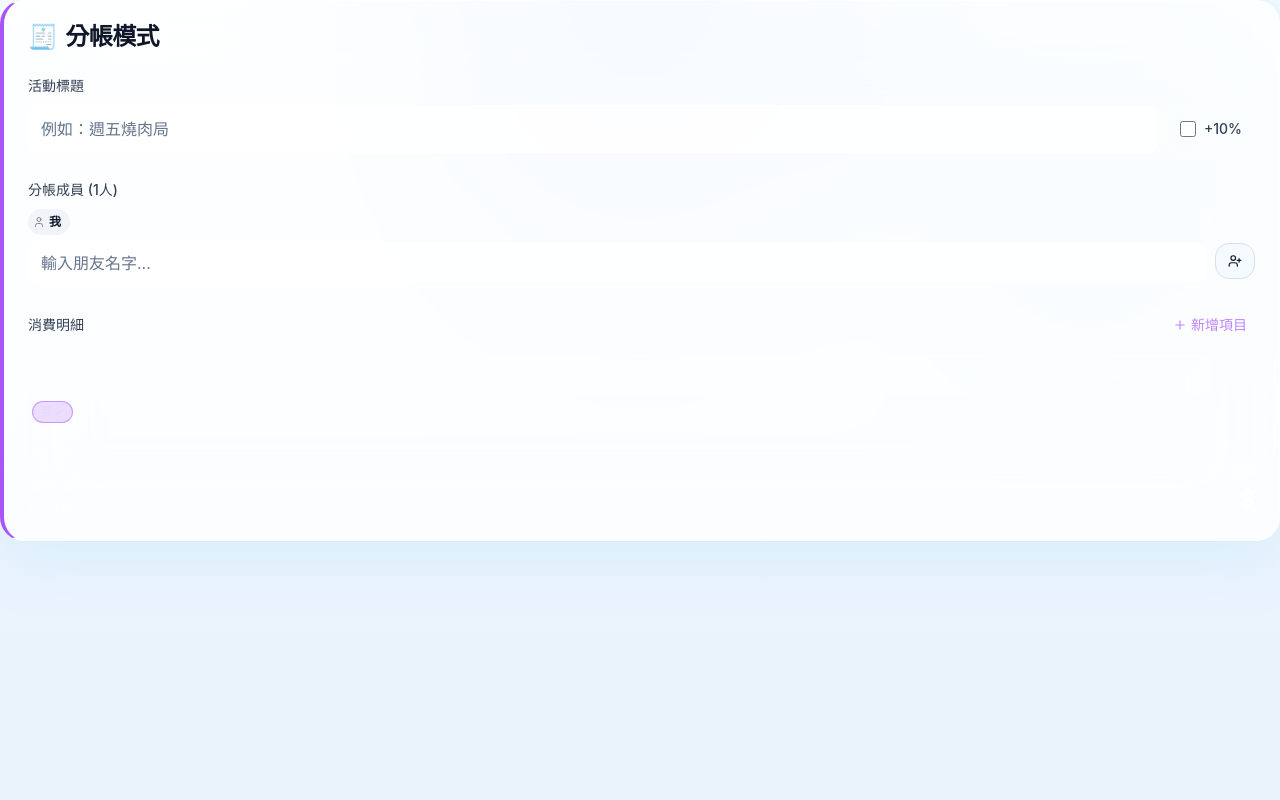
Test: BillForm Component › 新增成員 → 成員列表更新
The width and height of the screenshot is (1280, 800).
Step 1. Type "小明" into the field with placeholder "輸入朋友名字..." → (618, 263), box [28, 243, 1207, 283]
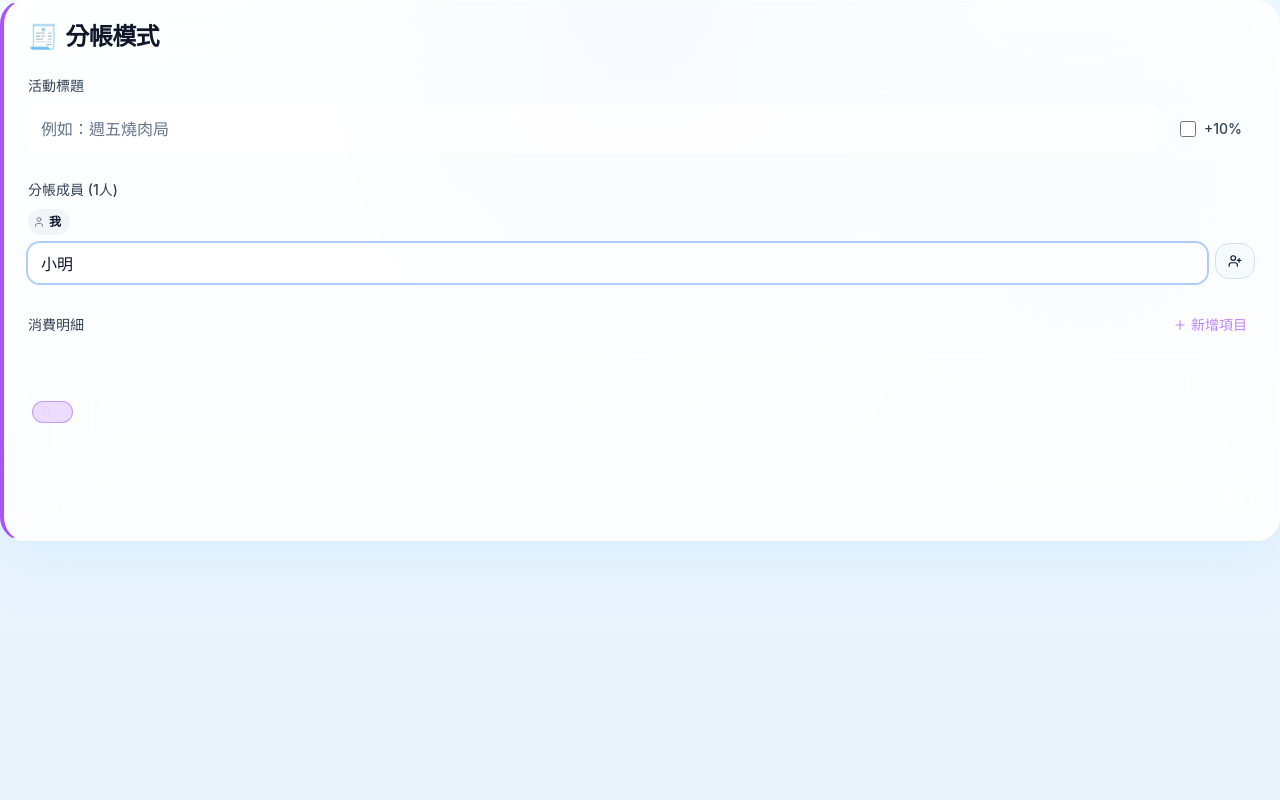
Step 2. Press Enter
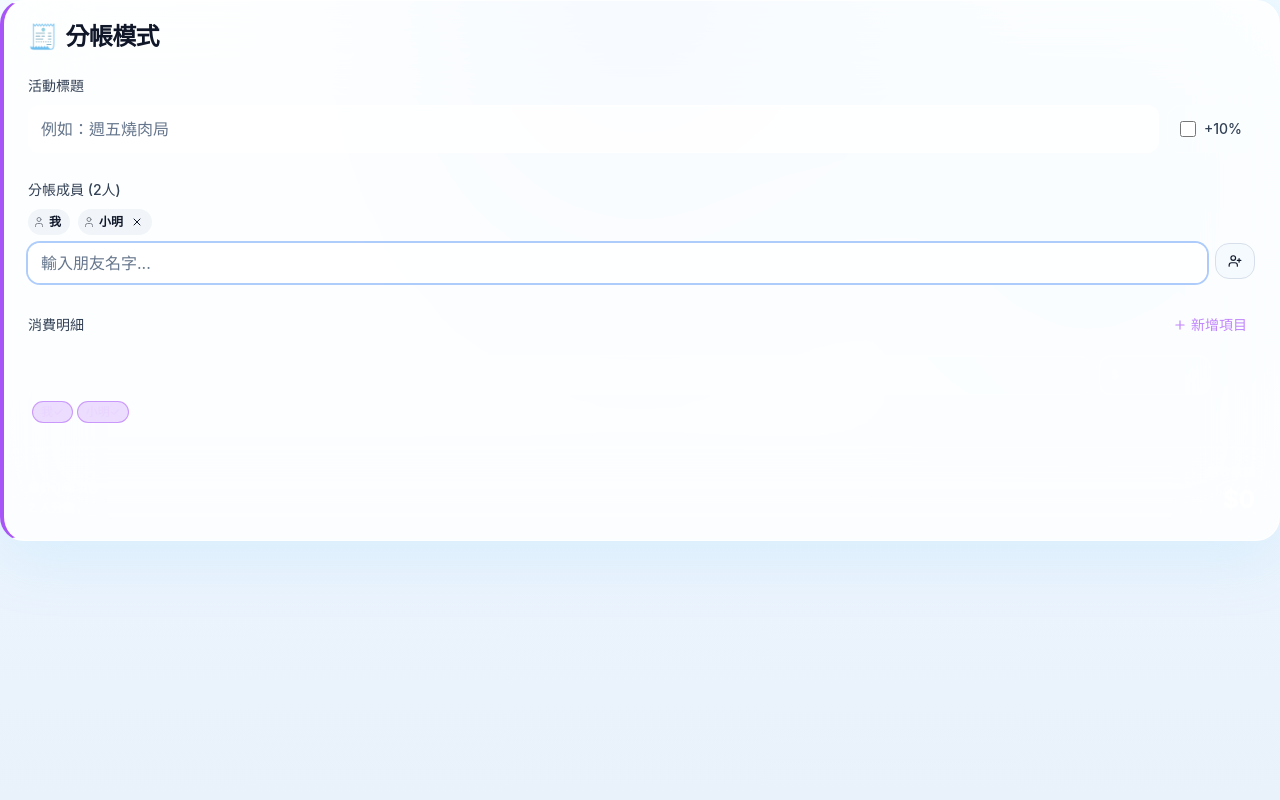
expect the text "小明" is shown: met, box [78, 209, 152, 235]
